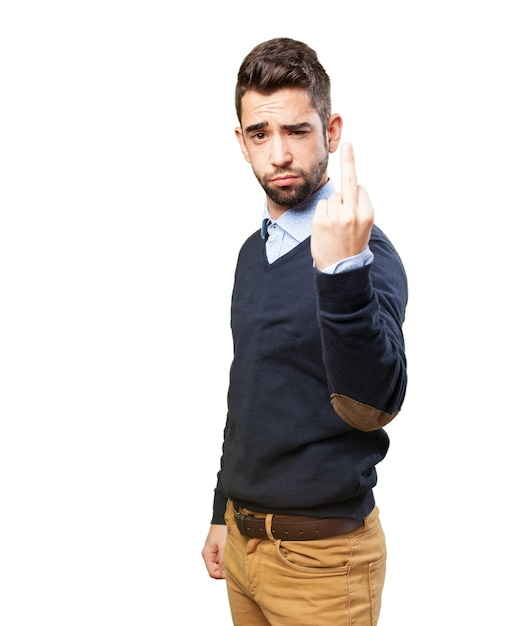insulting_gesture: (308, 140, 375, 271)
